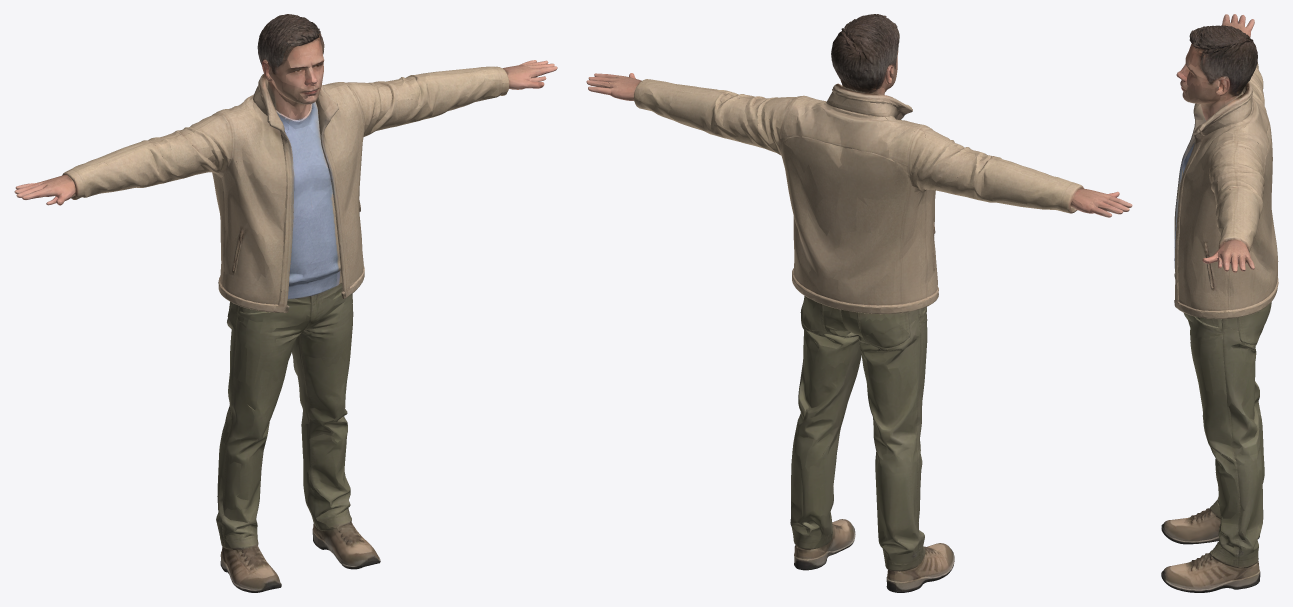
Rendered from character_n06_generated.glb.
3 views of the same model, side by side, from view 1: azimuth 30°, elevation 25°; view 2: azimuth 150°, elevation 25°; view 3: azimuth 270°, elevation 25° (orthographic). The views are drawn at different scales.
Size of the model in its own units: 1.9 by 1.84 by 0.3667.
1 material, 1 textured.
